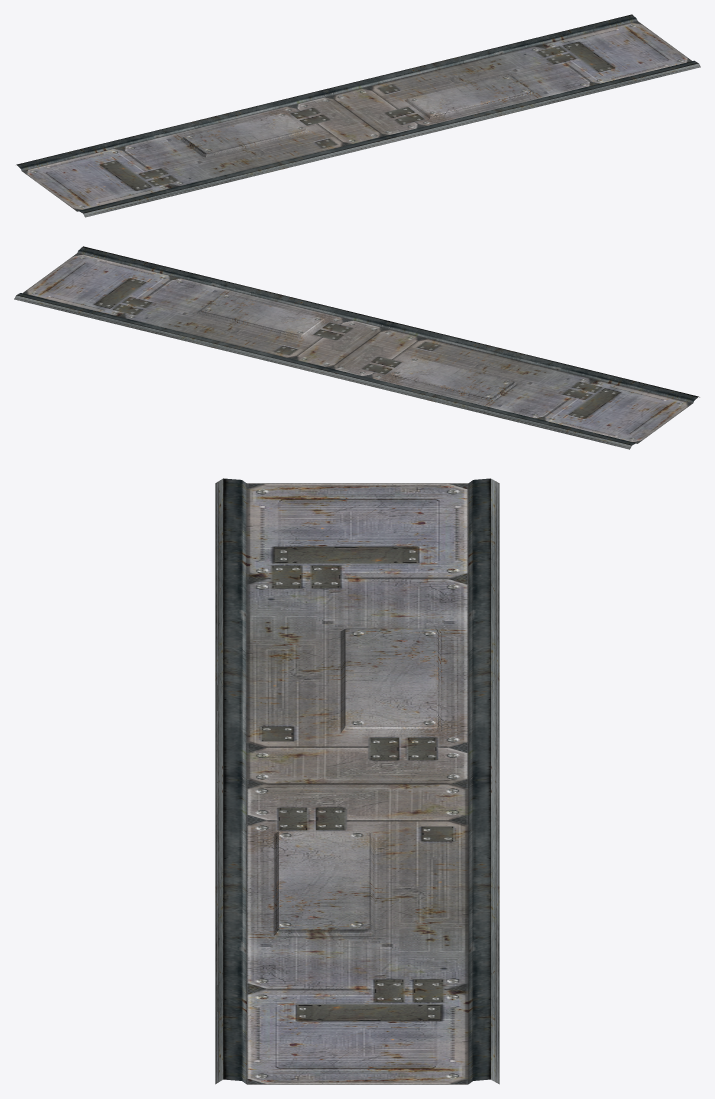
Rendered from FLO_FloorStrip02_5x1.FBX.
The picture shows the model from 3 angles, top to bottom: view 1: azimuth 30°, elevation 25°; view 2: azimuth 150°, elevation 25°; view 3: azimuth 270°, elevation 25°; orthographic projection. The views are drawn at different scales.
Visible parts, largest first — view 1: FLO_FloorStrip02_5x1; view 2: FLO_FloorStrip02_5x1; view 3: FLO_FloorStrip02_5x1.
Part boxes in pixels (x1,y1,x2,y2): FLO_FloorStrip02_5x1: [16, 14, 700, 217]; FLO_FloorStrip02_5x1: [14, 246, 699, 449]; FLO_FloorStrip02_5x1: [215, 478, 499, 1084].
Size of the model in its own units: 500 by 1.92 by 100.
Materials: 1 (1 with a texture image).
